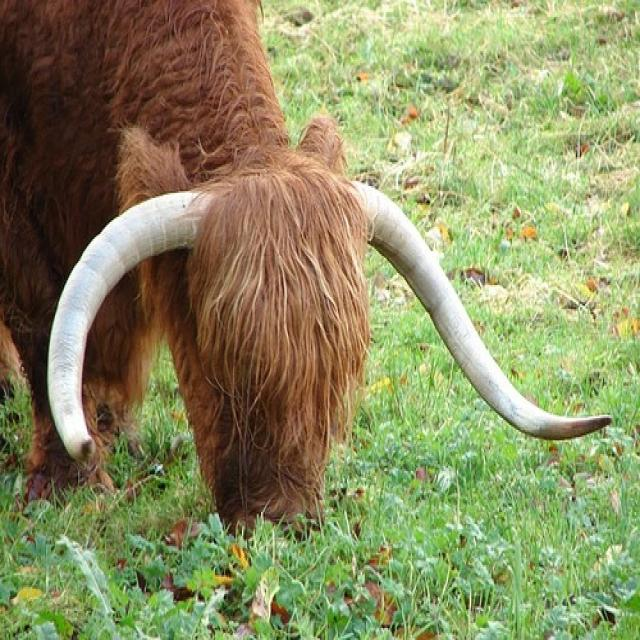cow: (0, 0, 613, 541)
